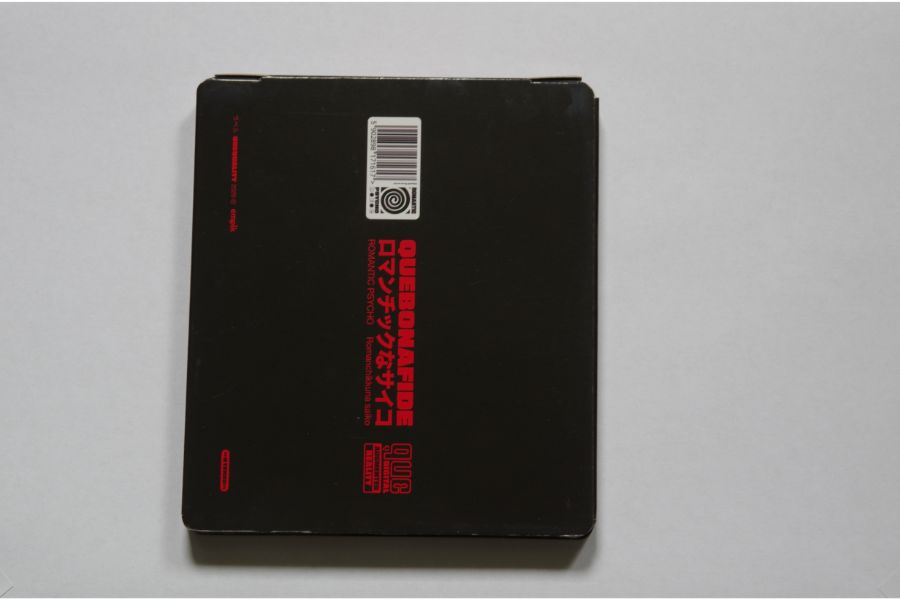album: (180, 74, 603, 542)
